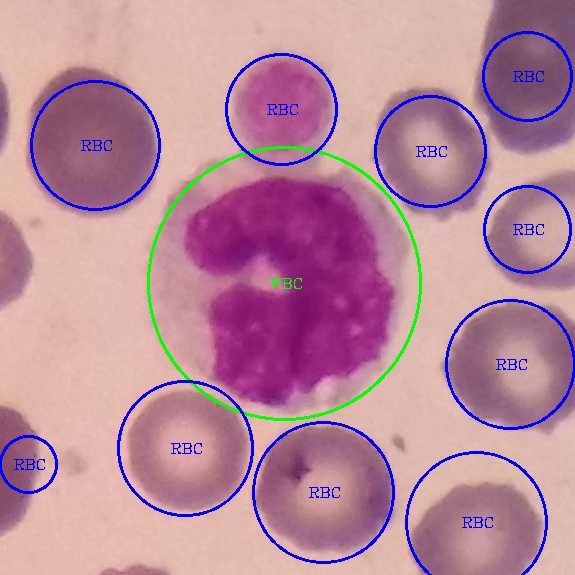Platelets: (223, 49, 332, 159)
RBC: (22, 62, 161, 224), (252, 418, 402, 561), (440, 297, 573, 440), (370, 81, 492, 226), (471, 0, 573, 161), (126, 389, 250, 516), (407, 479, 545, 573), (483, 162, 574, 299)
WBC: (147, 155, 406, 410)
